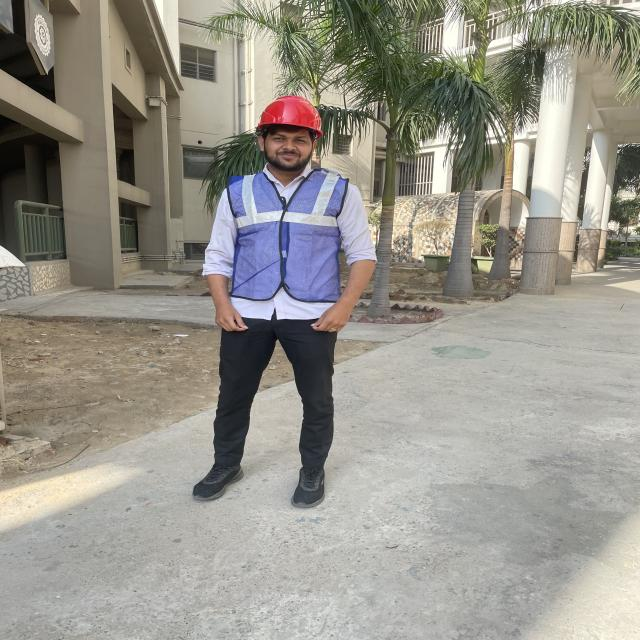safe: (197, 98, 377, 508)
